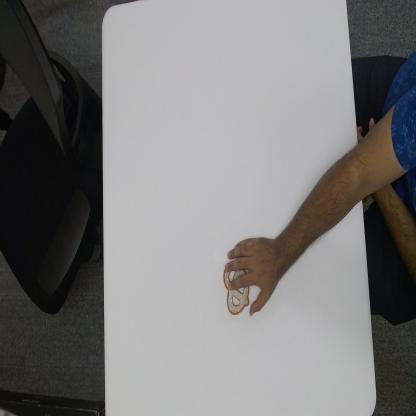Arm: (288, 132, 366, 266)
Hand: (224, 232, 288, 317)
Pretzel: (223, 262, 250, 316)
